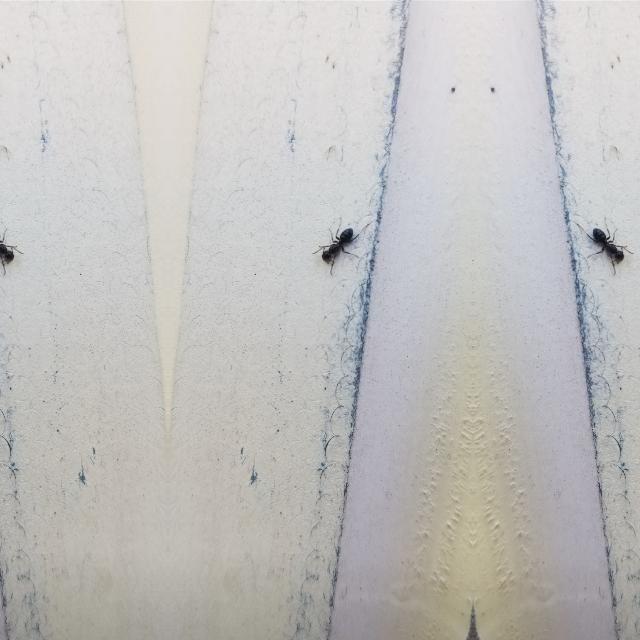Tapinoma: (316, 214, 359, 278), (586, 214, 628, 278), (0, 212, 16, 277)
